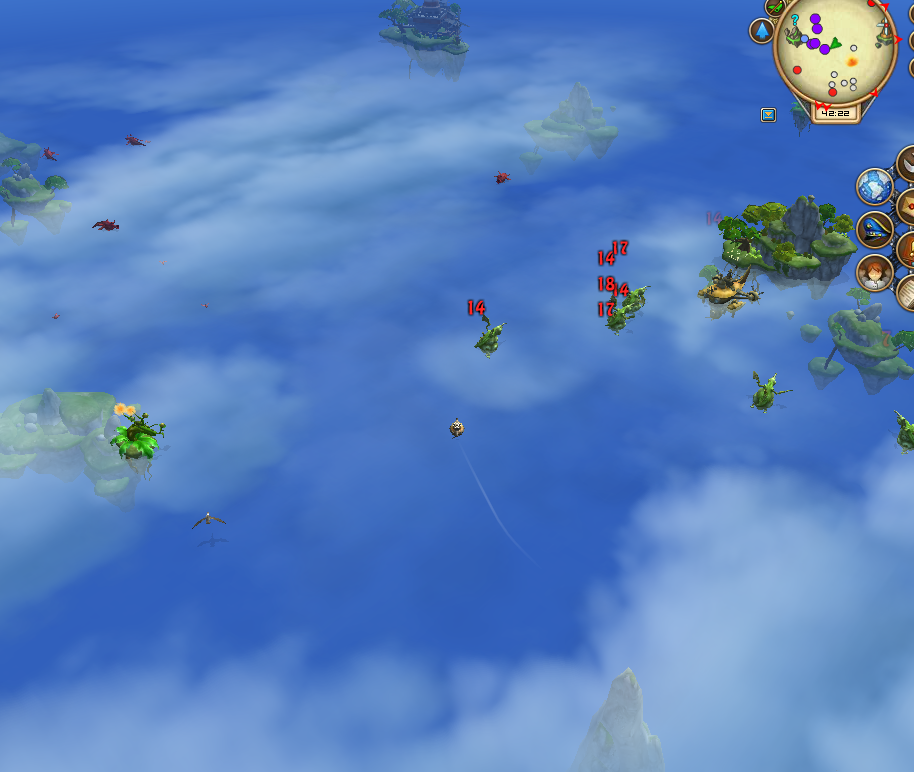dandelion-full: (105, 398, 170, 469)
